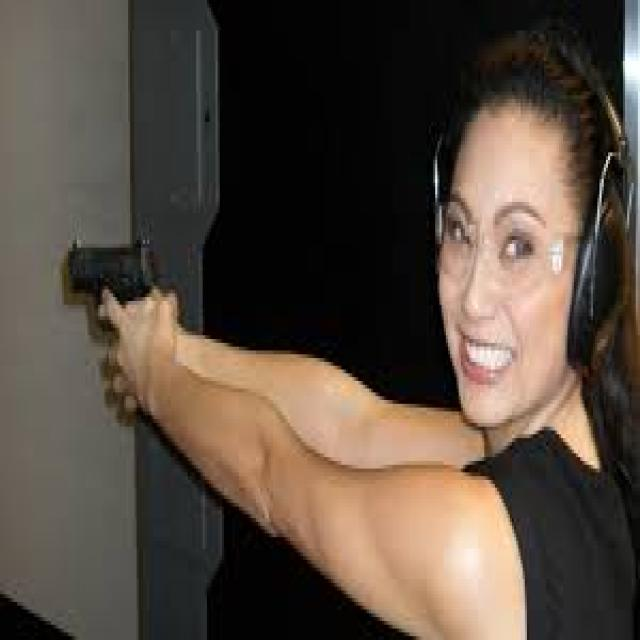gun: (52, 224, 190, 402)
